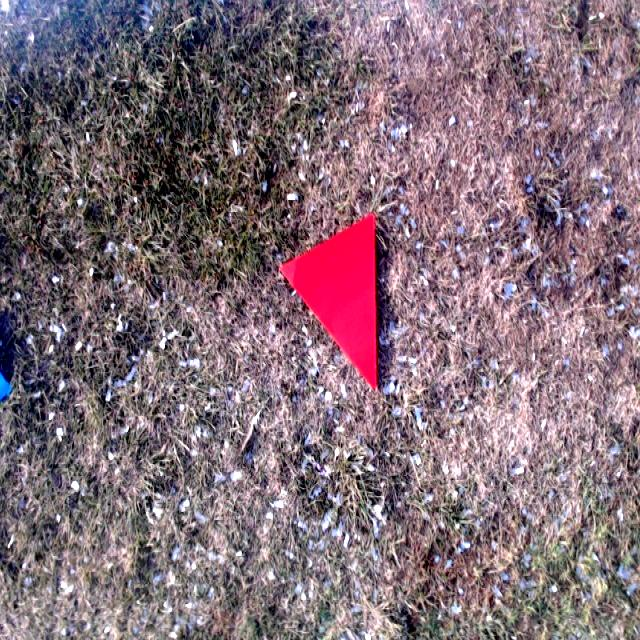red_triangle: (280, 215, 377, 390)
